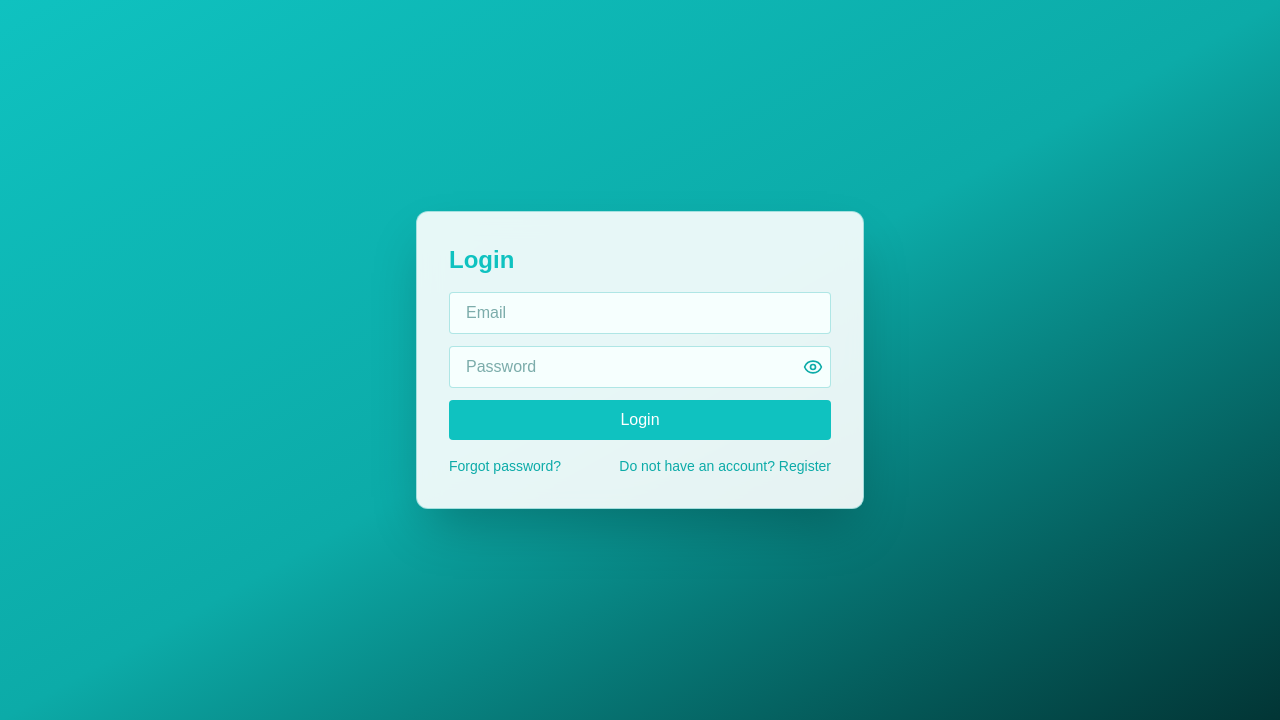
it: Login Page › should show validation error for empty fields
The width and height of the screenshot is (1280, 720).
Click the button "Login" at (640,420), box [449, 400, 831, 440]
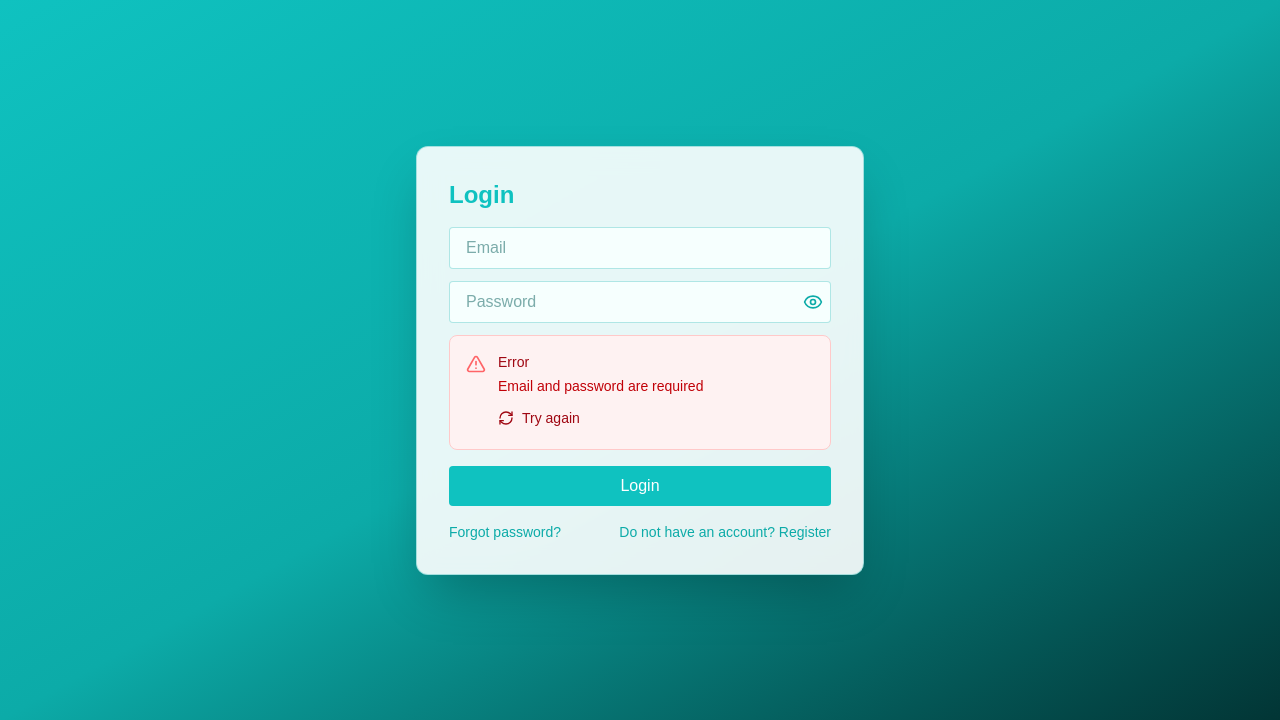
Now the text "Email and password are required" is shown, box [498, 378, 704, 394]
